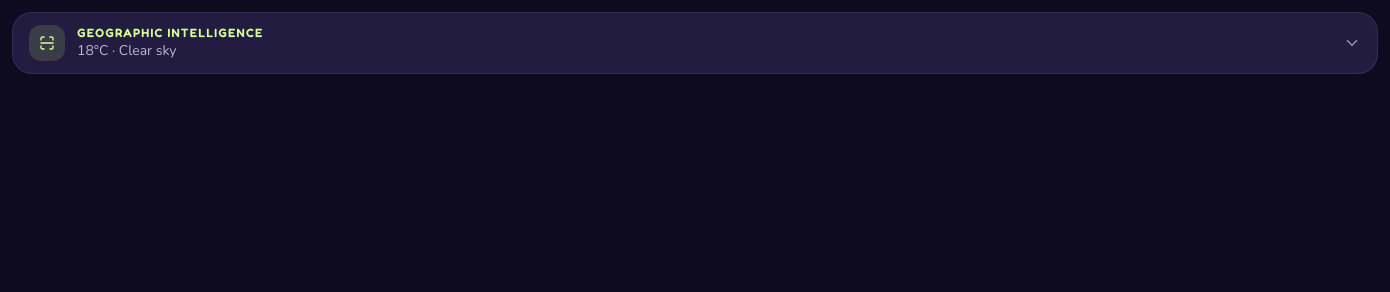
round weather freshness › starts collapsed on mobile viewports and expands when toggled
Expected: the text "Precipitation" is not shown
Click the button "Geographic intelligence 18°C · Clear sky".
click(47, 43)  # box [13,13,1377,73]
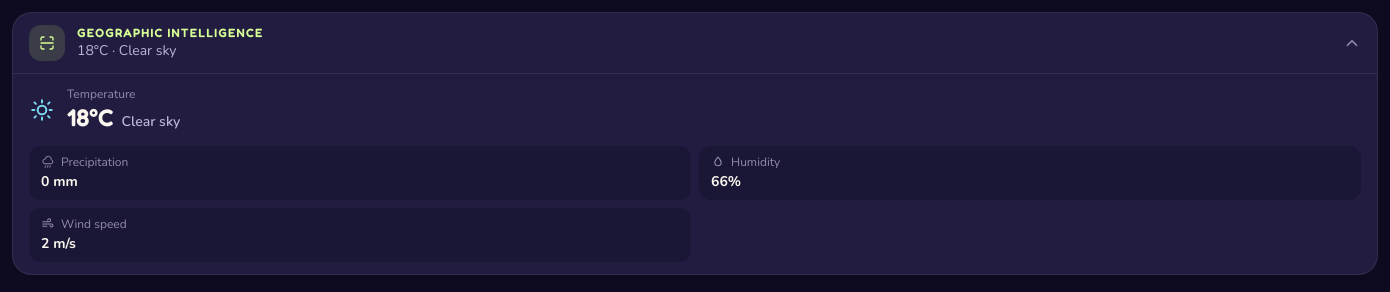
Now the button "Geographic intelligence 18°C · Clear sky" is expanded, box [13,13,1377,73]
Now the text "Precipitation" is shown, box [61,154,128,170]
